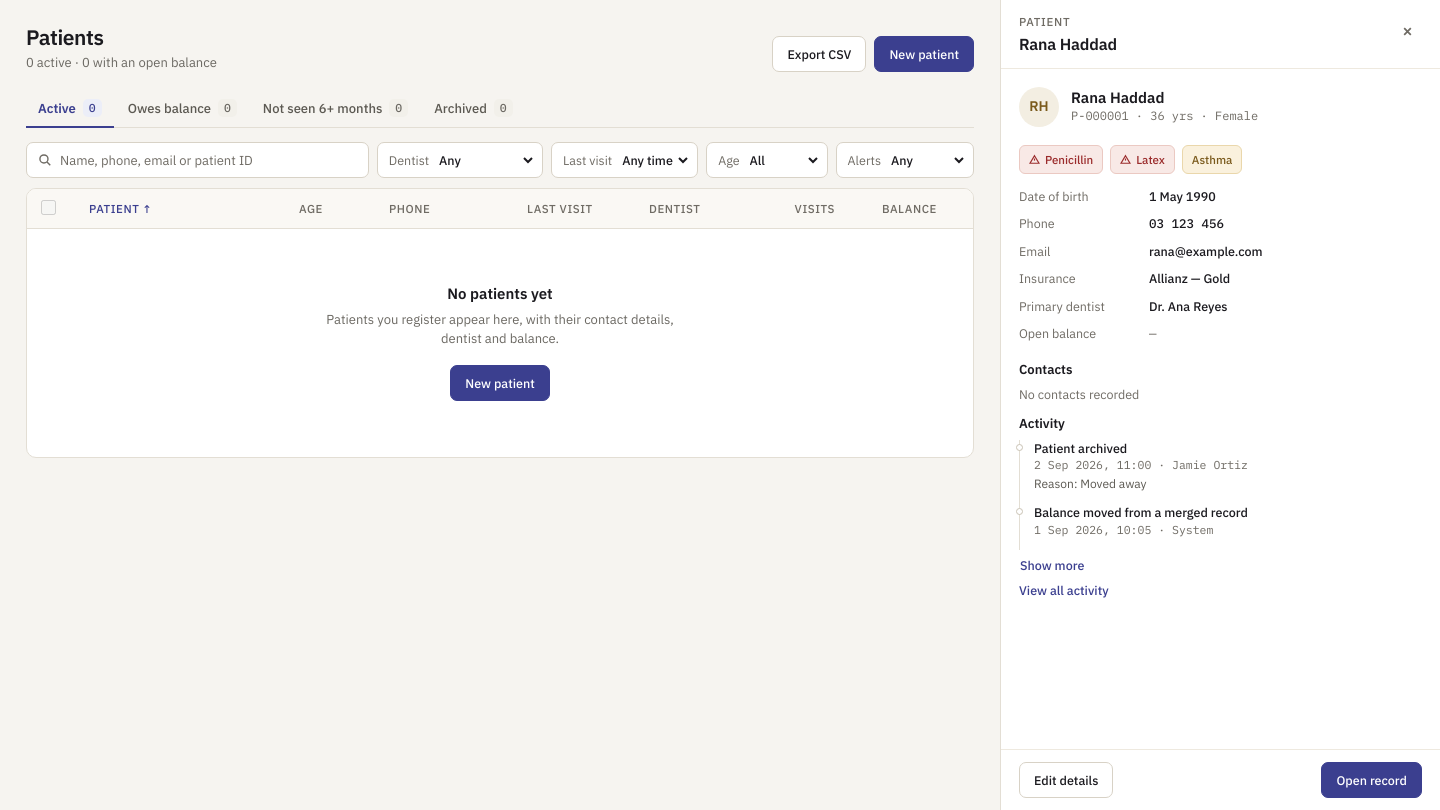
Test case: QuickViewPanel › pages the activity with Show more
Click the button "Show more". click: (1052, 565)
box: [1019,550,1085,580]
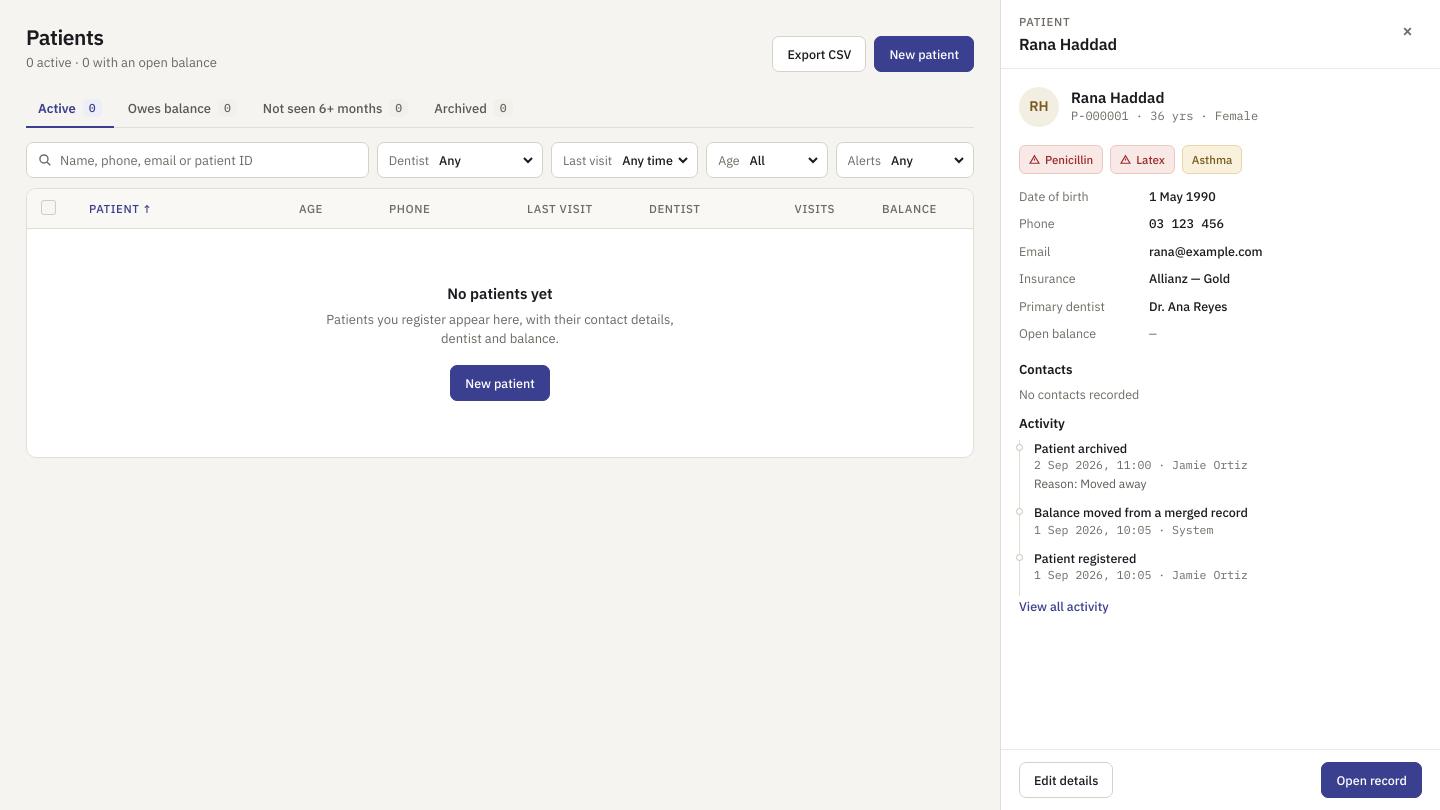
Check: the button "Show more" is gone
